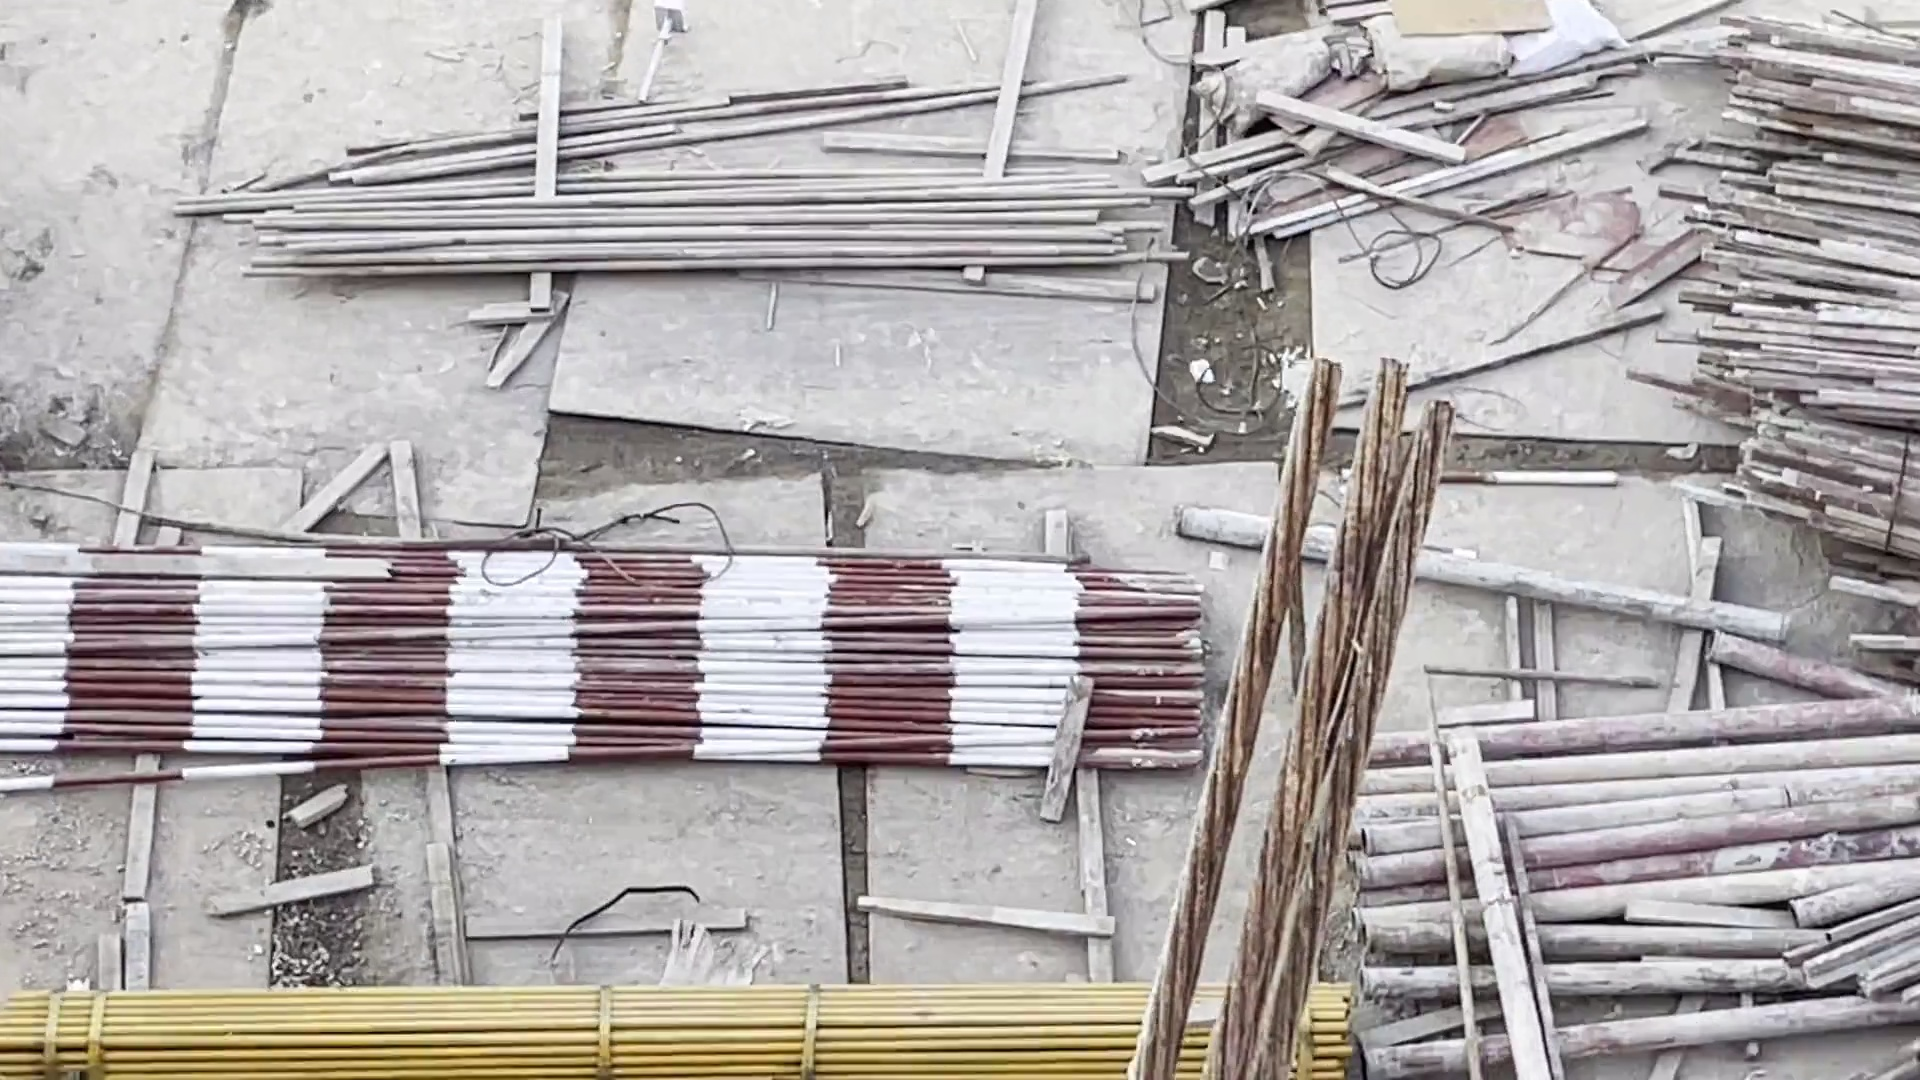scaffold: (1345, 738, 1913, 1080)
wood: (1680, 1, 1917, 618)
